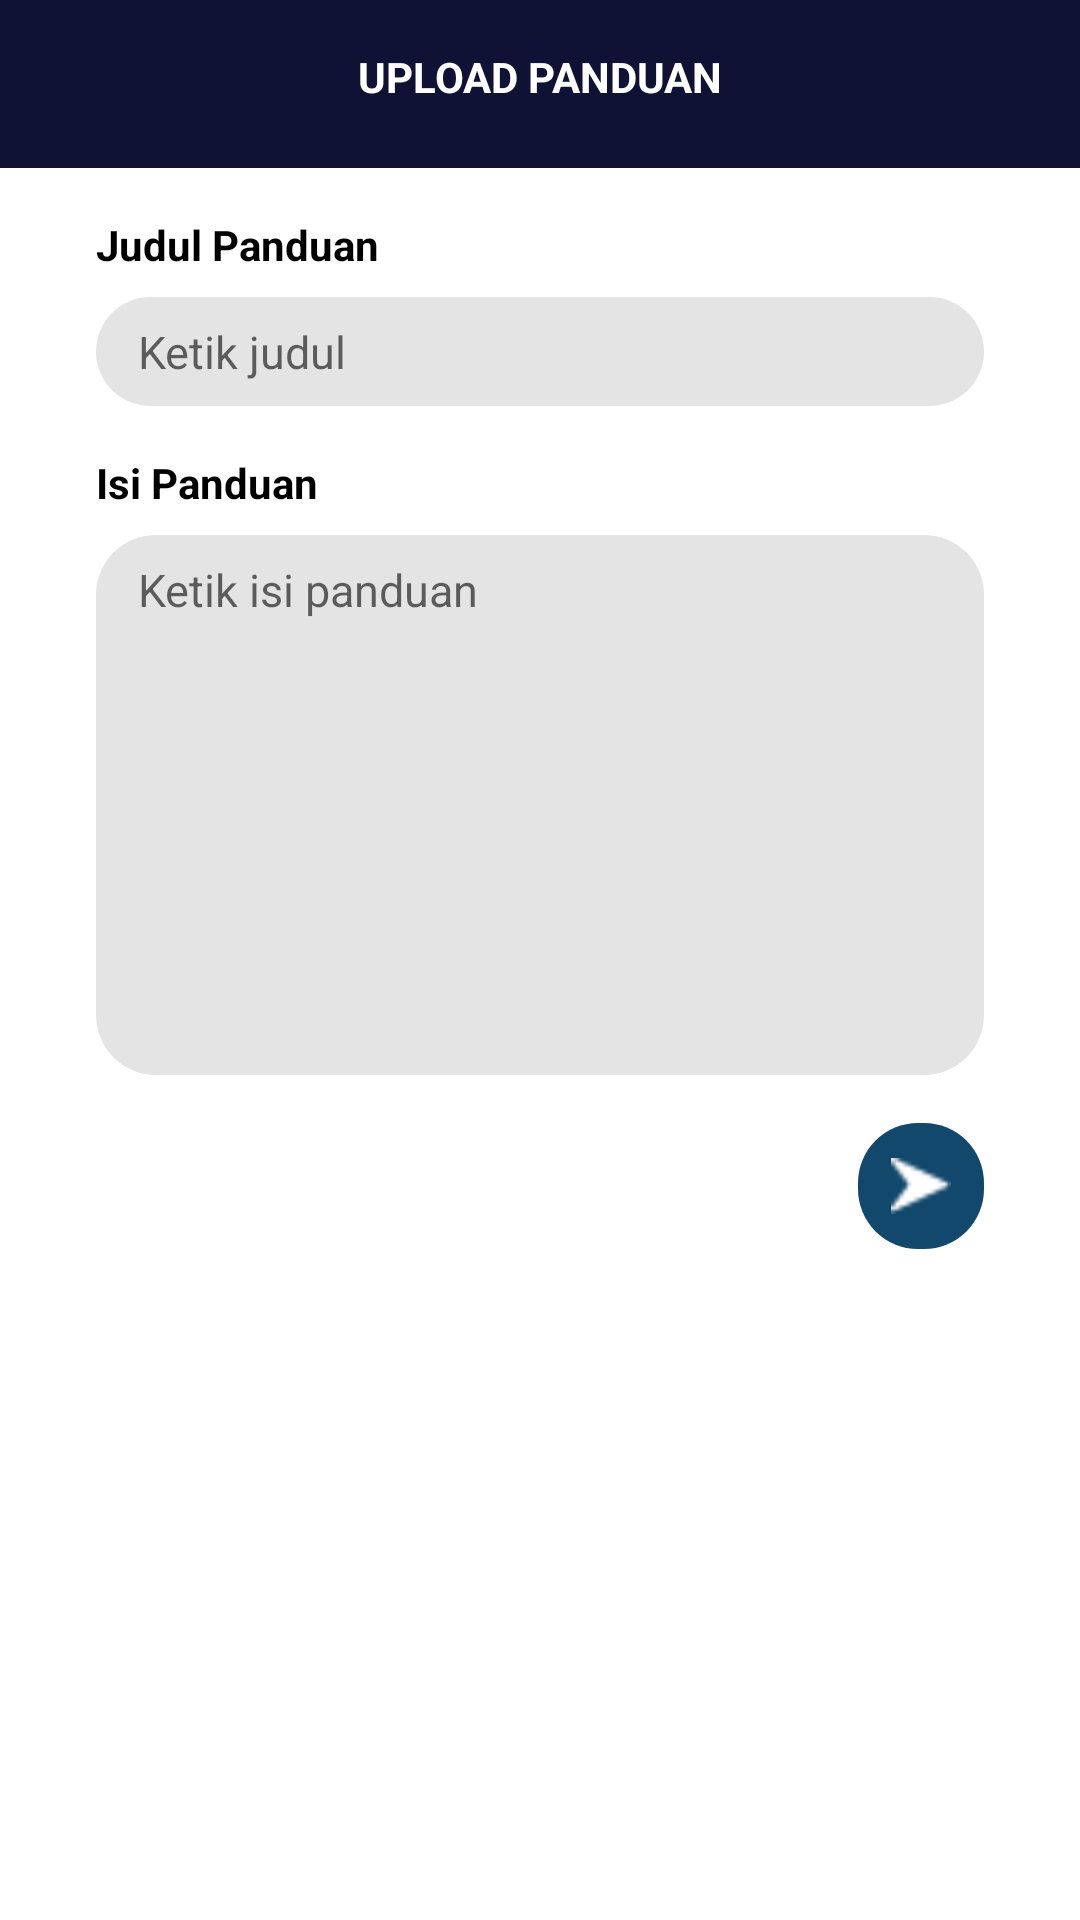

Point at icon controls on the screen. Image size 1080px x 1920px, points as point (x, y).
right arrow: point (921, 1186)
